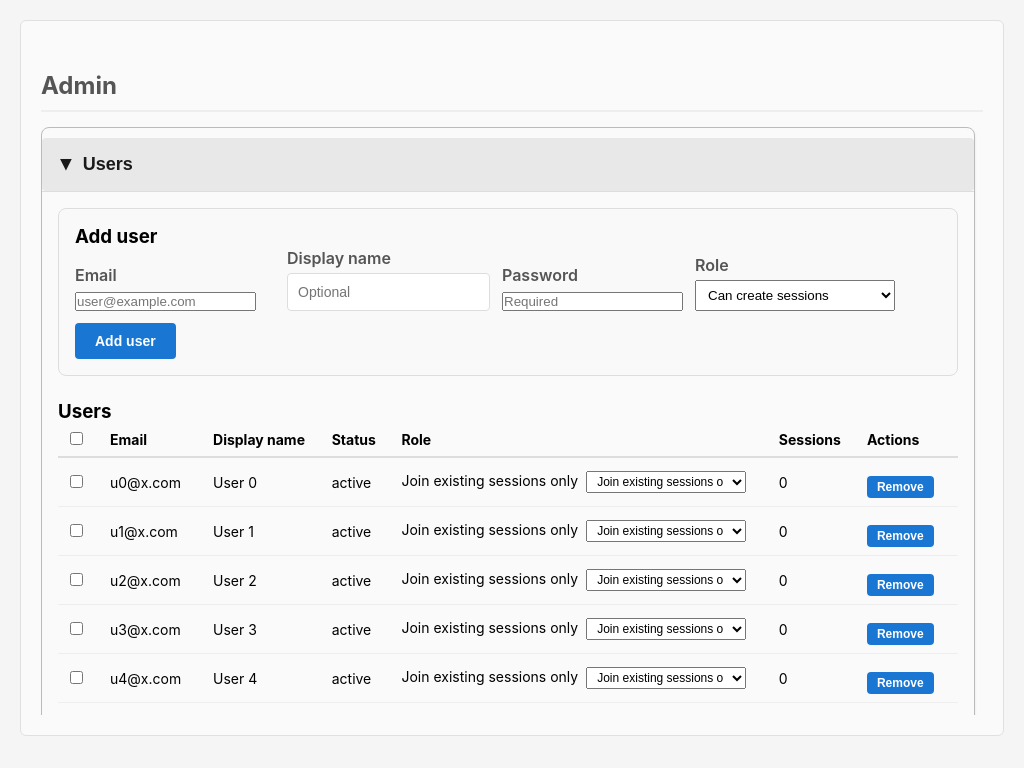
Test: Type-to-confirm for large bulk deletes (SCRUM-584) › gates the Users delete behind typing the exact count when > 10 selected
Click the checkbox named "Select all users" at x=76, y=438, box [70,432,83,445]
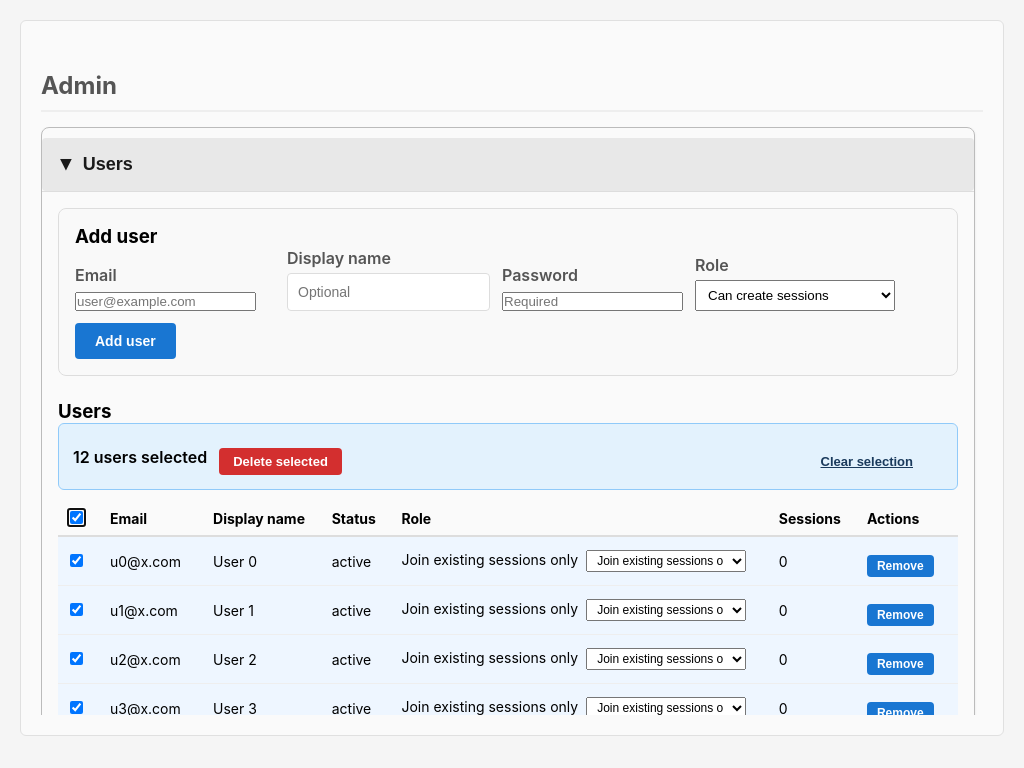
Click the button "Delete selected" at x=281, y=462, box [219,448,342,475]
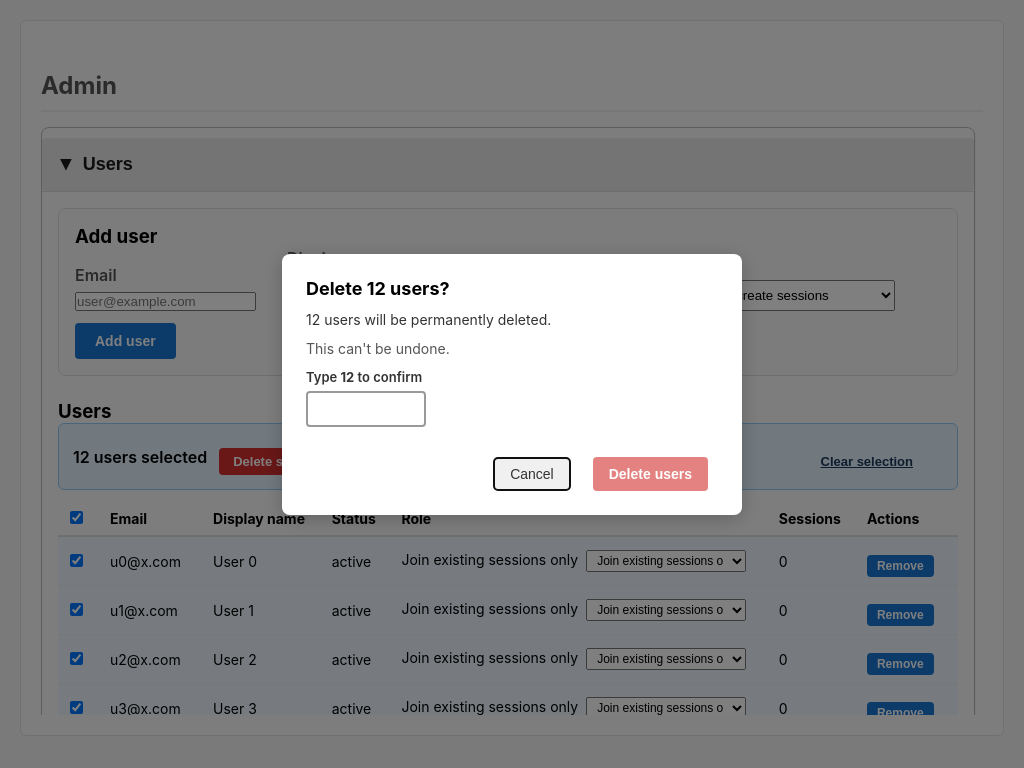
Result: the heading "Delete 12 users?" is shown at [306,278,450,298]
Result: the button "Delete users" is disabled at [593,456,708,490]
Type "11" into the field labelled "Type 12 to confirm" at x=366, y=408, box [306,390,426,426]
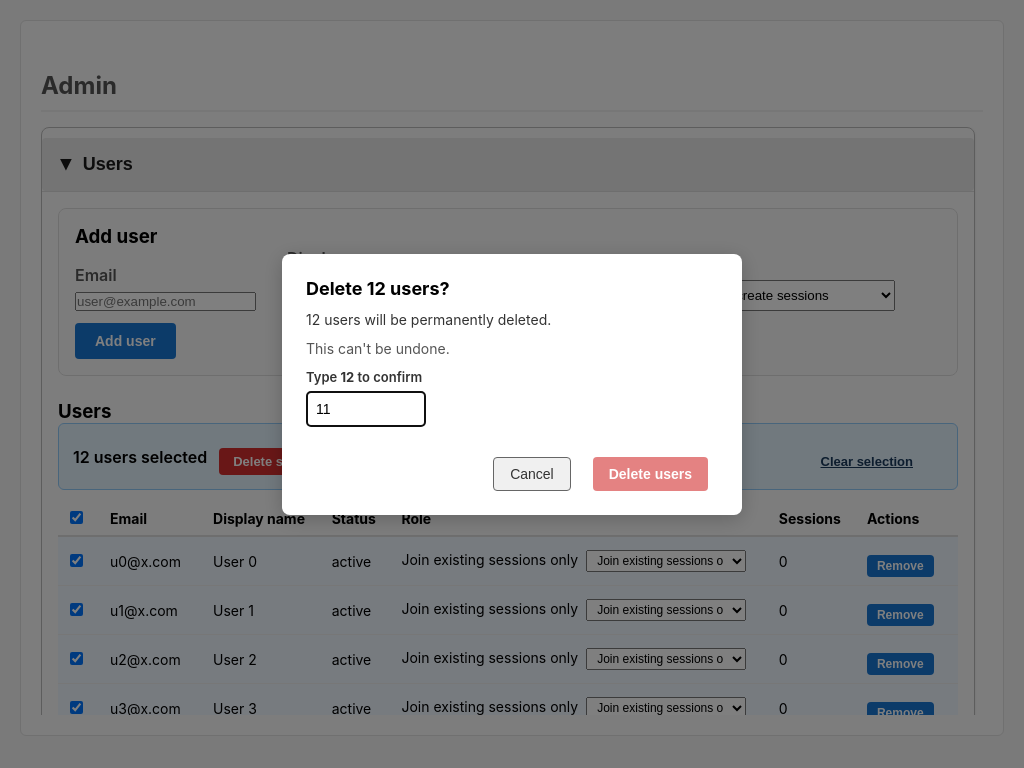
Result: the button "Delete users" is disabled at [593,456,708,490]
Replace the text in the field labelled "Type 12 to confirm" with "12" at x=366, y=408, box [306,390,426,426]
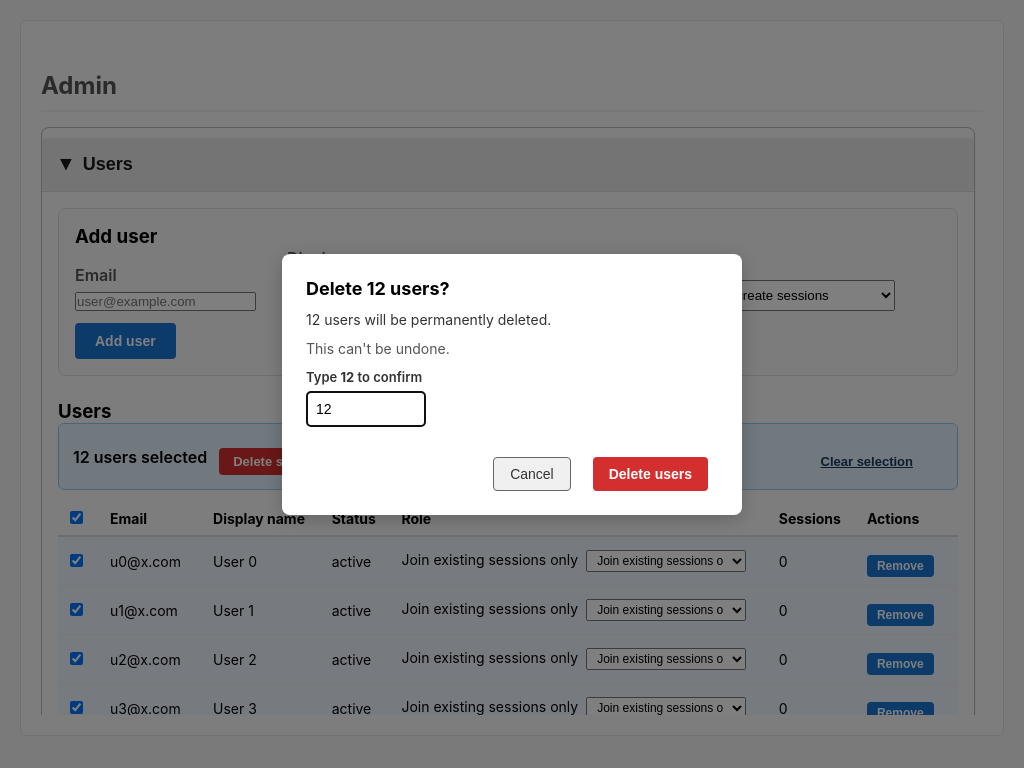
Result: the button "Delete users" is enabled at [593,456,708,490]
